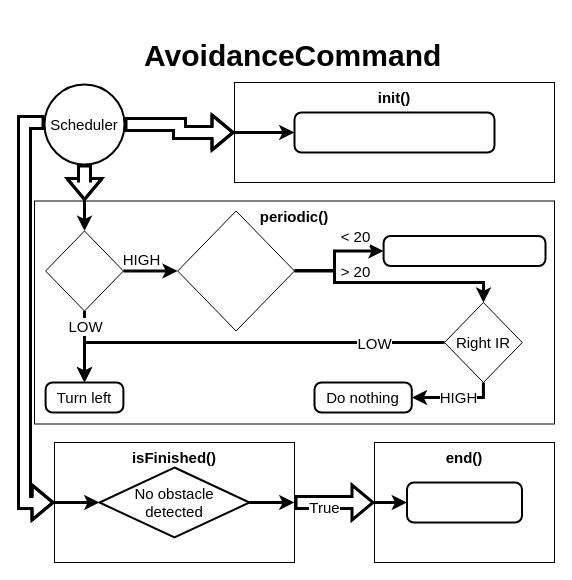
The diagram is 572 pixels wide and 580 high, and some of its shapes have lost their labels. The centre of each missing label's shape, as x and y in pixels:
"Drive at 15cm distance" belongs at [464,250].
"Left IR" belongs at [84,270].
"Remove last position from path" belongs at [394,132].
"Stop driving" belongs at [464,502].
"Ultrasonic distance (cm)" belongs at [235,270].
